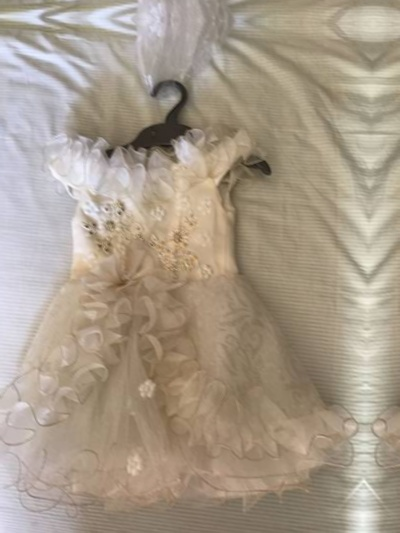Dress: (0, 82, 364, 533), (372, 90, 400, 533)
